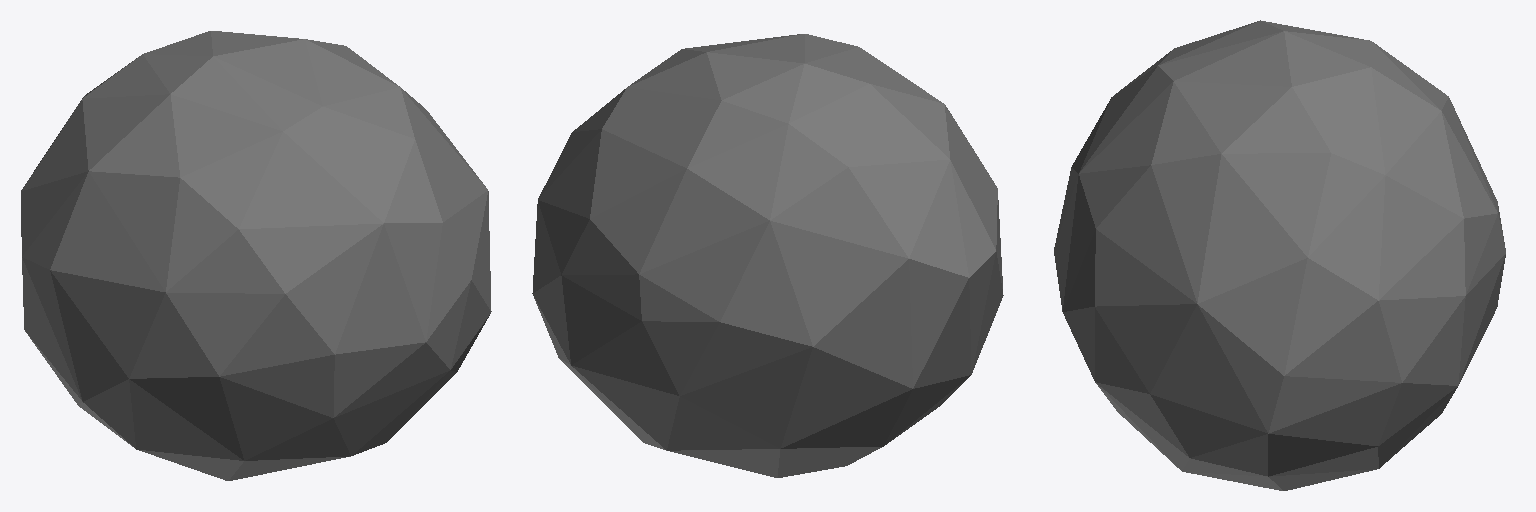
robot.urdf — lemon_002:
<?xml version="1.0" ?>
<robot name="lemon_002">
  <material name="color">
    <color rgba=".5 .5 .5 1"/>
  </material>

  <link name="base_link">
    <contact>
      <lateral_friction value="1.0"/>
      <rolling_friction value="0.001"/>
      <spinning_friction value="0.001"/>
      <inertia_scaling value="1.0"/>
    </contact>
    <inertial>
      <origin rpy="0 0 0" xyz="-0.00073094 -1.04071e-05 -0.000173464"/>
       <mass value="0.1"/>
       <inertia ixx="1" ixy="0" ixz="0" iyy="1" iyz="0" izz="1"/>
    </inertial>

    <visual>
      <origin rpy="0 0 0" xyz="0 0 0"/>
      <geometry>
        <mesh filename="lemon_002_vhacd_0_of_1.obj" scale="1 1 1"/>
      </geometry>
      <material name="color"/>
    </visual>

    <collision>
      <origin rpy="0 0 0" xyz="0 0 0"/>
      <geometry>
        <mesh filename="lemon_002_vhacd_0_of_1.obj" scale="1 1 1"/>
      </geometry>
    </collision>

  </link>
</robot>

--- What the picture shows (computed from the rendered views, not written in the file) ---
The picture shows the robot from 3 angles, left to right: view 1: azimuth 30°, elevation 25°; view 2: azimuth 150°, elevation 25°; view 3: azimuth 270°, elevation 25°; orthographic projection.
Model lemon_002 with 1 links and 0 joints (none), rooted at base_link, posed all joints at 0.
Visible links, largest first — view 1: base_link; view 2: base_link; view 3: base_link.
Link boxes in pixels (x1=…): base_link: x1=21, y1=31, x2=491, y2=480; base_link: x1=532, y1=34, x2=1003, y2=477; base_link: x1=1054, y1=20, x2=1505, y2=490.
Bounding box of the posed robot: 0.1076 × 0.0952 × 0.0957 m (x, y, z).
1 mesh visuals loaded from 1 distinct referenced files (1 OBJ).